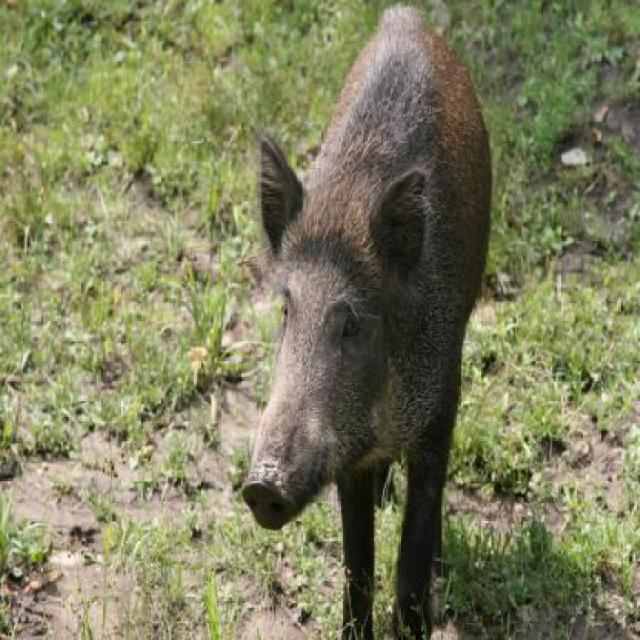pig: (239, 0, 493, 639)
